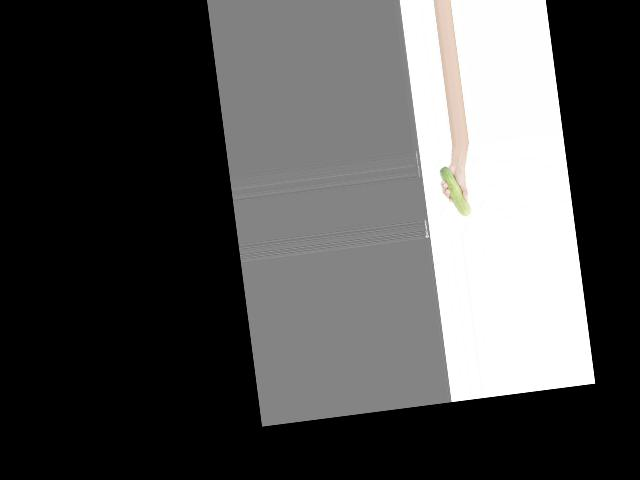cucumber: (439, 163, 471, 218)
